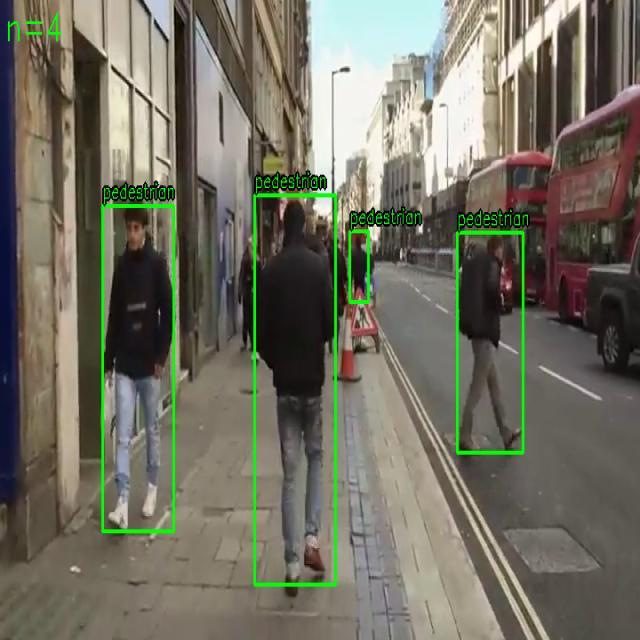with scooter: (254, 194, 336, 586), (102, 205, 174, 532), (456, 232, 524, 454), (349, 230, 369, 302)
